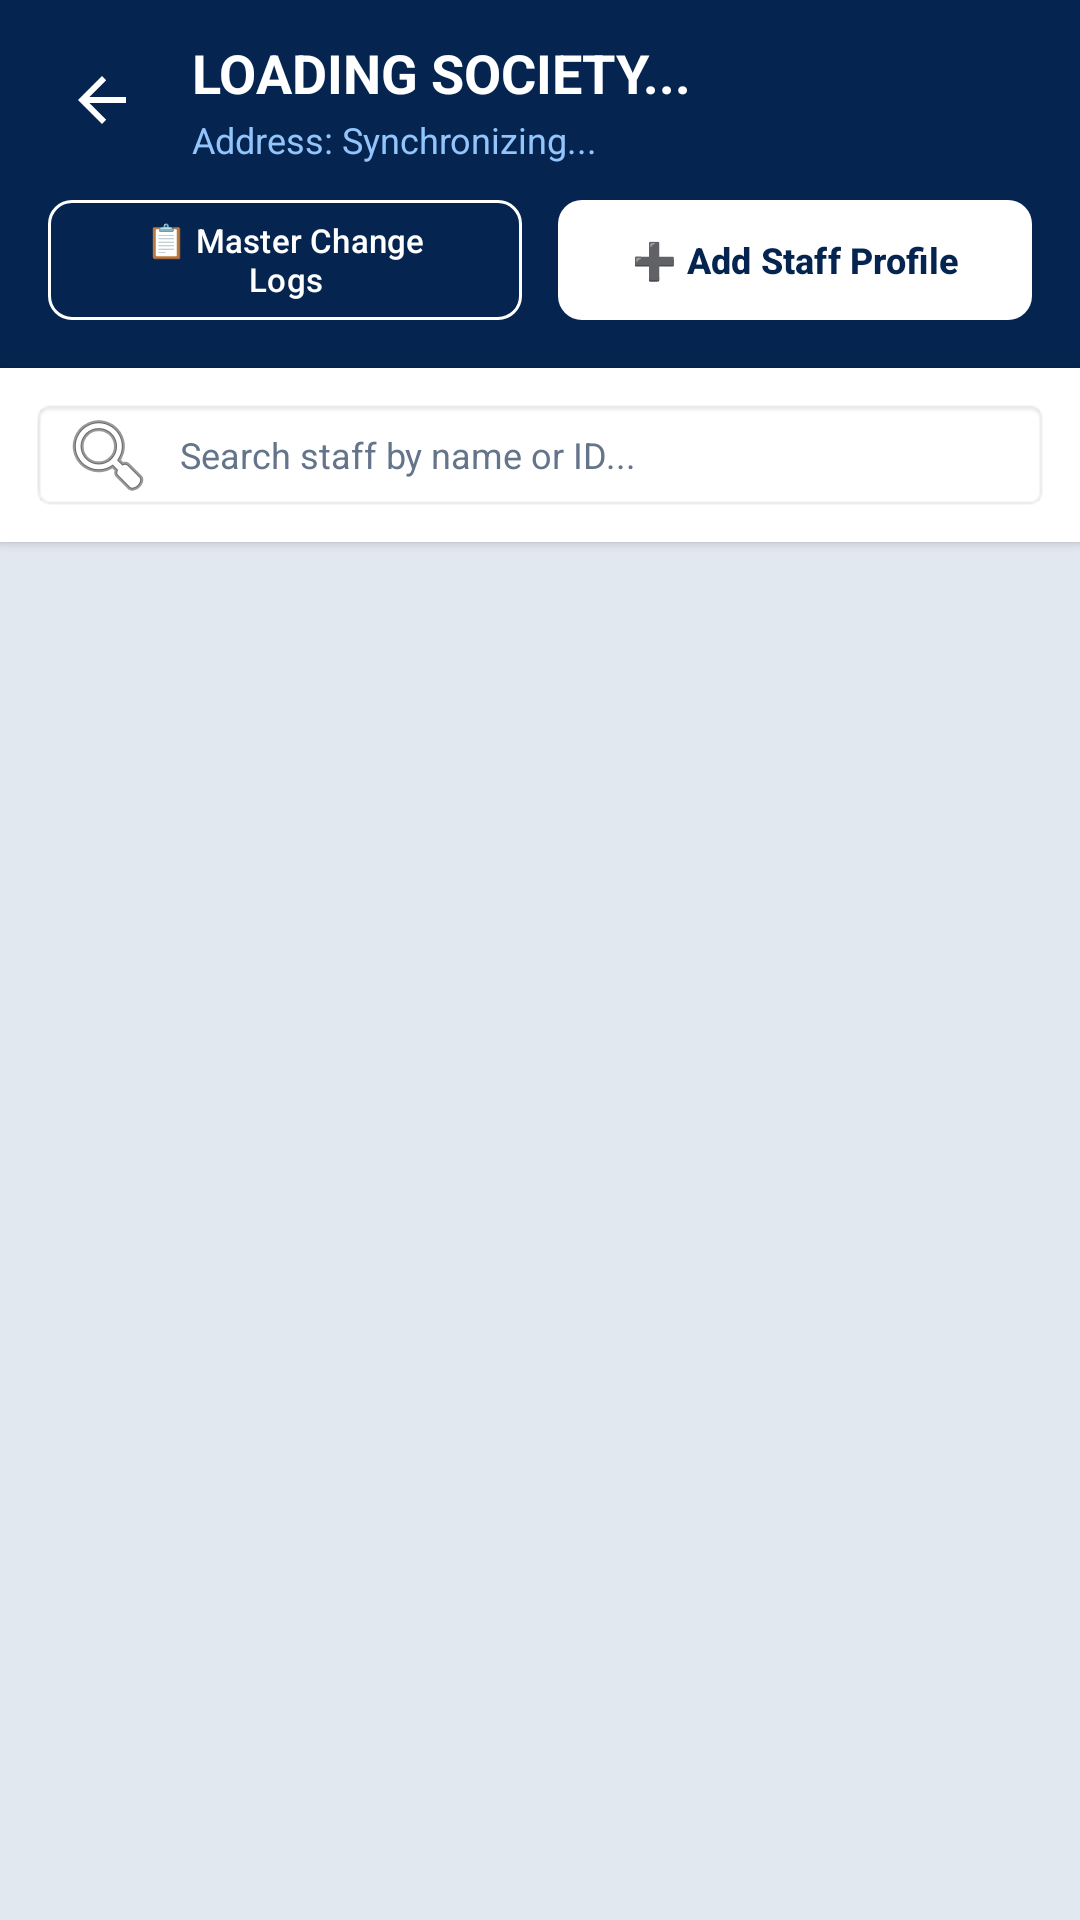

Locate icon controls on the screen. Image size 1080*1920, boxes as (x1, y1, x2, y2).
Back: (78, 76, 126, 124)
